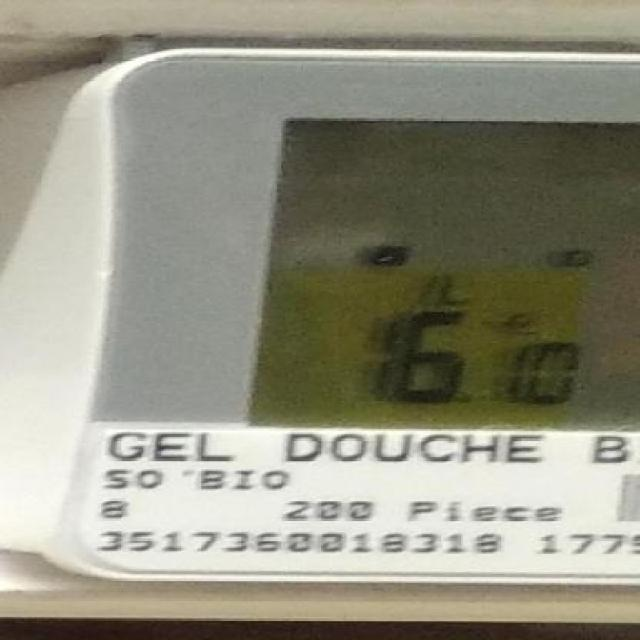display: (247, 119, 640, 428)
frame: (363, 303, 593, 417), (92, 528, 505, 558), (536, 526, 630, 562), (282, 494, 378, 524), (97, 494, 128, 521)
gauge: (0, 46, 640, 588)
